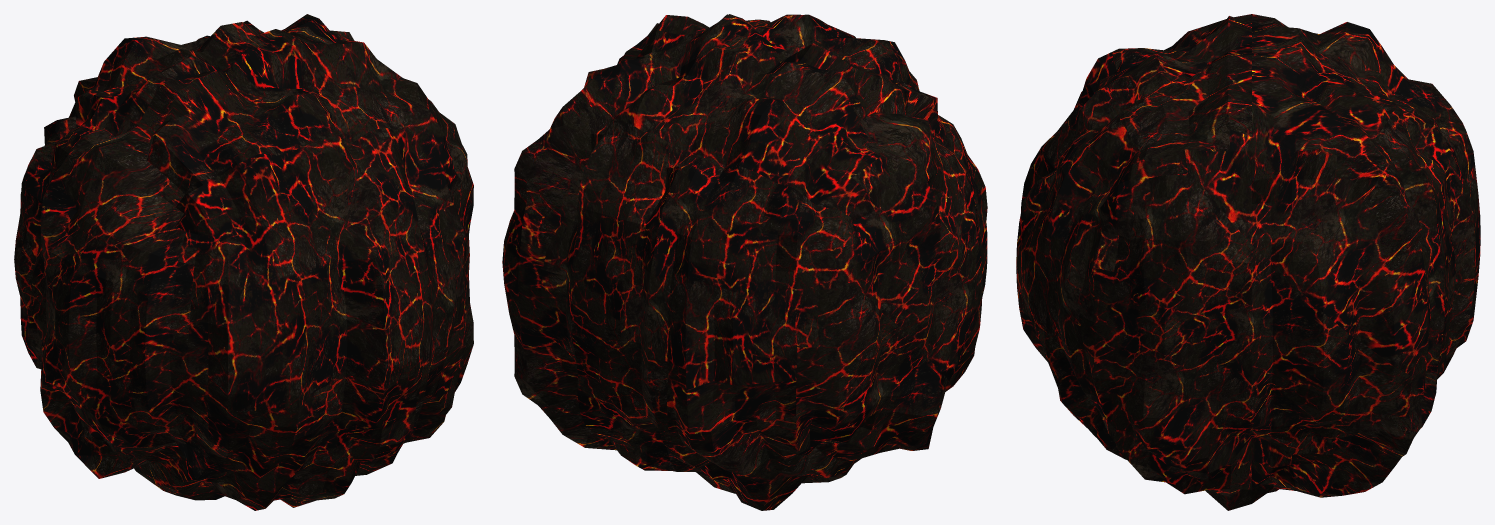
File: asteroid83.obj
3 renders of one model, left to right at view 1: azimuth 30°, elevation 25°; view 2: azimuth 150°, elevation 25°; view 3: azimuth 270°, elevation 25°, orthographic.
Parts seen in each view (by area): view 1: Cube_Cube.002; view 2: Cube_Cube.002; view 3: Cube_Cube.002.
Part boxes in pixels (bbox=[...]): Cube_Cube.002: bbox=[14, 14, 473, 510]; Cube_Cube.002: bbox=[502, 14, 987, 510]; Cube_Cube.002: bbox=[1016, 14, 1480, 510].
Size of the model in its own units: 1.77 by 1.86 by 1.78.
